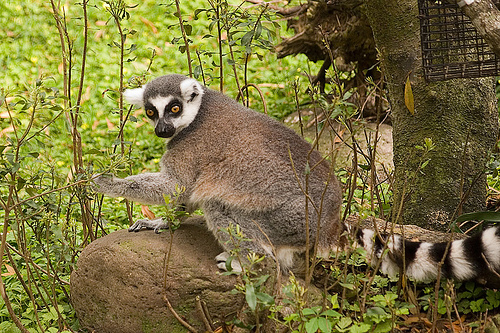cat: (92, 73, 499, 282)
